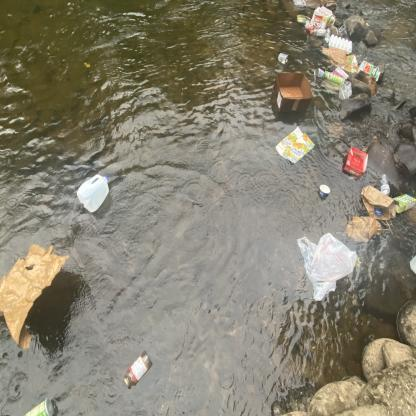trash: (0, 244, 72, 356), (296, 228, 360, 302), (272, 70, 314, 113), (274, 124, 316, 164), (74, 168, 112, 210), (359, 184, 397, 221), (122, 350, 154, 390), (343, 215, 384, 244), (302, 6, 334, 38), (343, 143, 370, 178), (18, 398, 59, 416), (317, 45, 349, 68), (355, 58, 384, 82), (324, 34, 354, 56), (391, 189, 416, 213), (322, 69, 347, 87), (336, 80, 355, 102), (379, 172, 393, 196), (316, 182, 332, 202), (294, 13, 312, 24), (409, 252, 416, 277), (277, 51, 290, 64), (292, 0, 307, 8)
